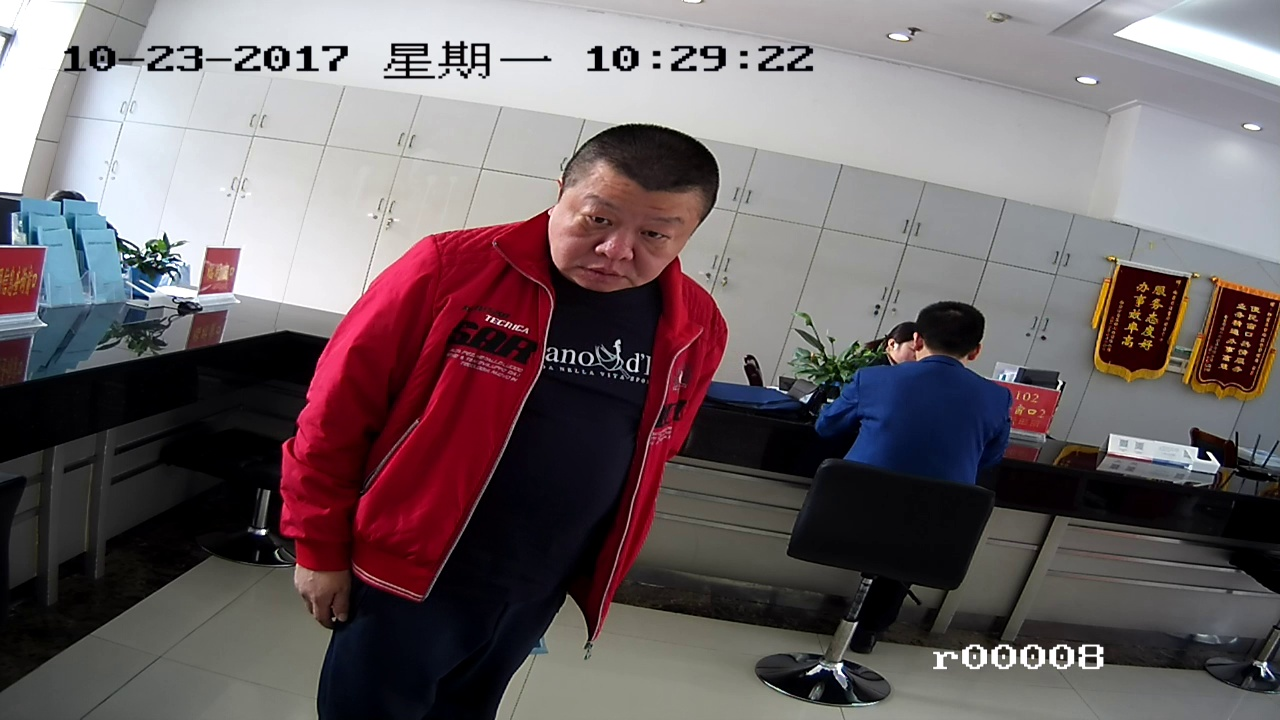billboard: (1106, 262, 1172, 385), (1205, 286, 1262, 401)
chair: (771, 455, 978, 705)
person: (449, 105, 748, 446), (855, 304, 1007, 521), (870, 315, 927, 364)
pot: (800, 323, 857, 421), (123, 236, 175, 299)
